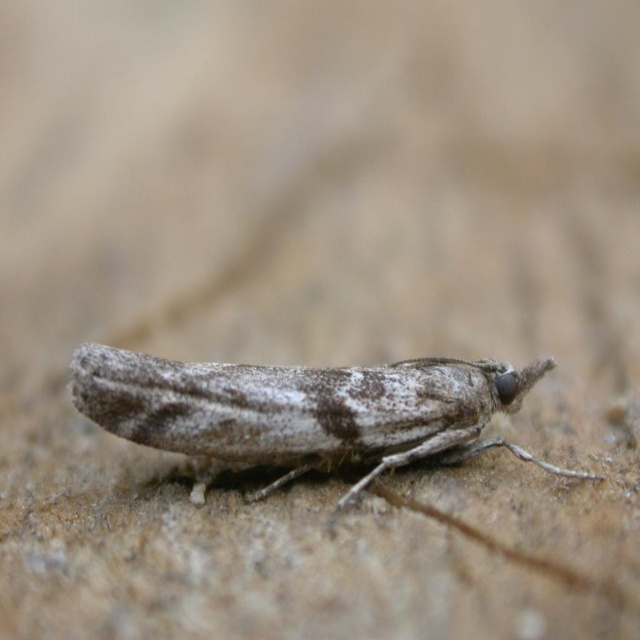Moths and butterflies: (64, 340, 608, 532)
